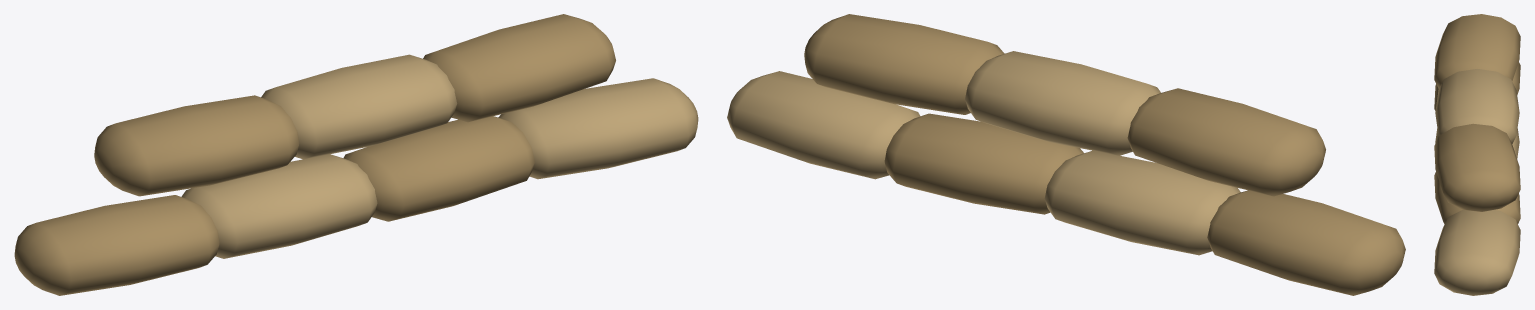
Rendered from sandbags.glb.
The picture shows the model from 3 angles, left to right: view 1: azimuth 30°, elevation 25°; view 2: azimuth 150°, elevation 25°; view 3: azimuth 270°, elevation 25°; orthographic projection. The views are drawn at different scales.
Parts seen in each view (by area): view 1: bag0, bag4, bag3, bag5, bag6, bag1, bag2; view 2: bag4, bag0, bag6, bag5, bag1, bag2, bag3; view 3: bag6, bag3, bag4, bag5, bag2, bag0, bag1.
Part boxes in pixels (x1,y1,x2,y2): bag0: [14, 195, 219, 295]; bag4: [94, 95, 299, 196]; bag3: [498, 78, 698, 179]; bag5: [261, 54, 457, 159]; bag6: [423, 14, 615, 122]; bag1: [181, 154, 377, 258]; bag2: [343, 116, 534, 221]; bag4: [1127, 88, 1325, 196]; bag0: [1207, 190, 1405, 295]; bag6: [804, 14, 1004, 114]; bag5: [965, 51, 1160, 155]; bag1: [1044, 150, 1240, 255]; bag2: [884, 113, 1083, 214]; bag3: [727, 71, 920, 179]; bag6: [1434, 123, 1520, 211]; bag3: [1434, 210, 1520, 295]; bag4: [1434, 14, 1520, 88]; bag5: [1435, 69, 1519, 143]; bag2: [1434, 172, 1520, 223]; bag0: [1434, 62, 1520, 110]; bag1: [1435, 128, 1519, 158].
Size of the model in its own units: 2.08 by 0.435 by 0.3328.
